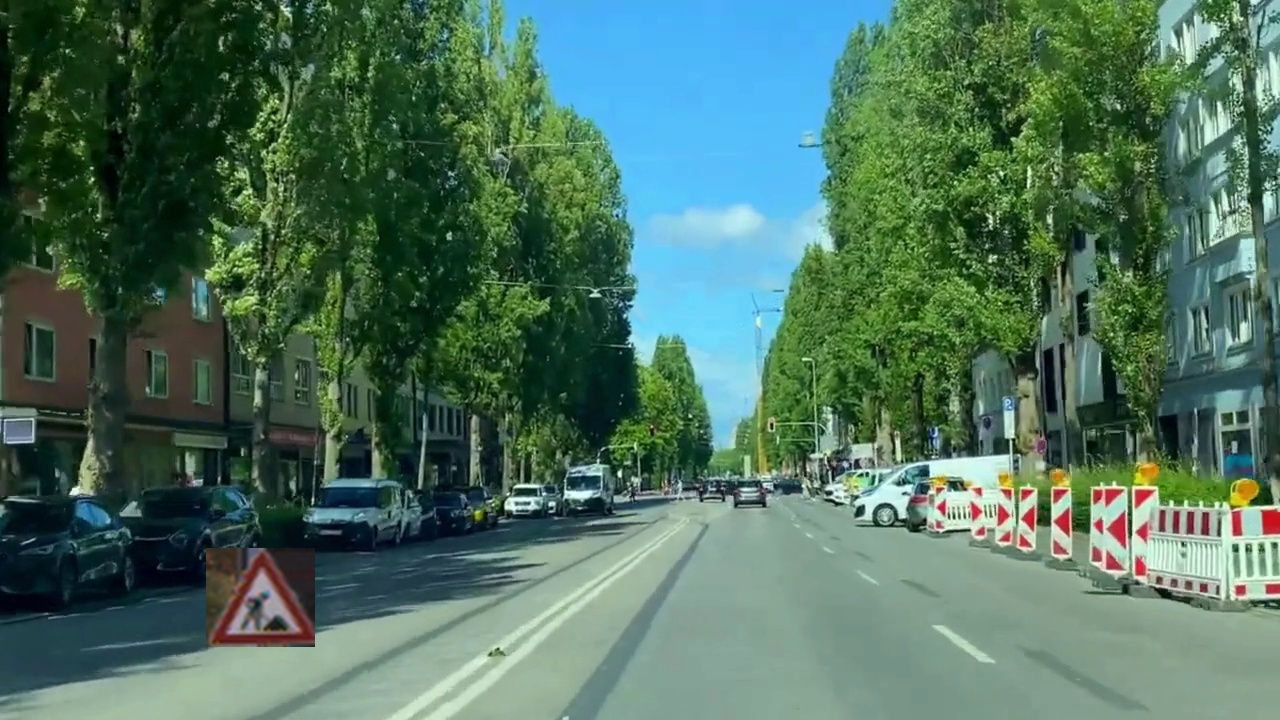Road work: (206, 548, 315, 647)
